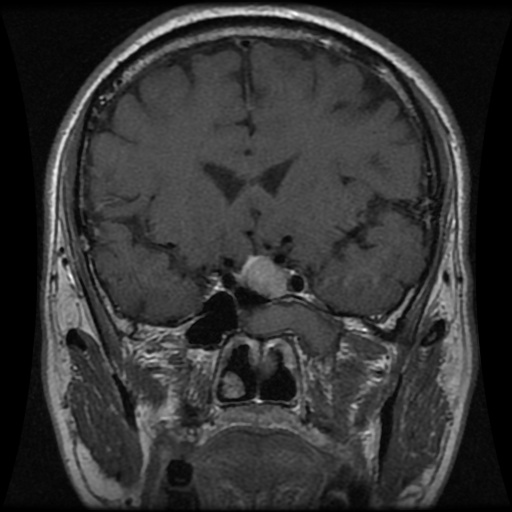pituitary: (241, 256, 286, 300)
